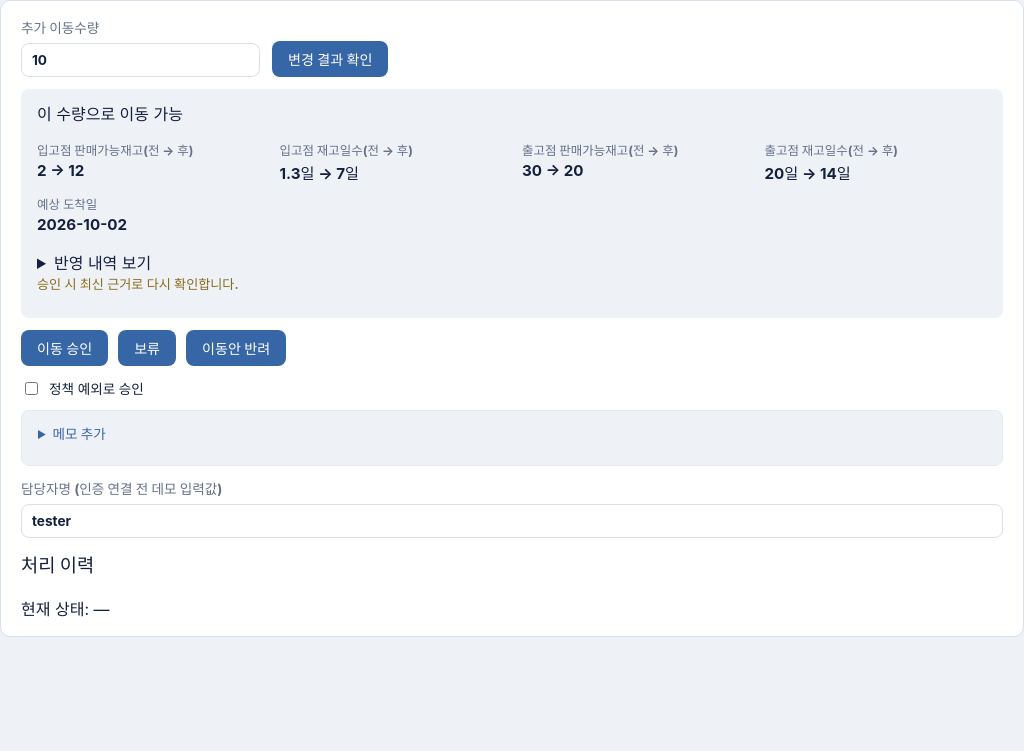
Scenario: DecisionPanel decision submission › a successful HELD response does not force the form terminal -- HELD stays actionable
Click the button "보류" at x=147, y=348, box [118,330,176,366]
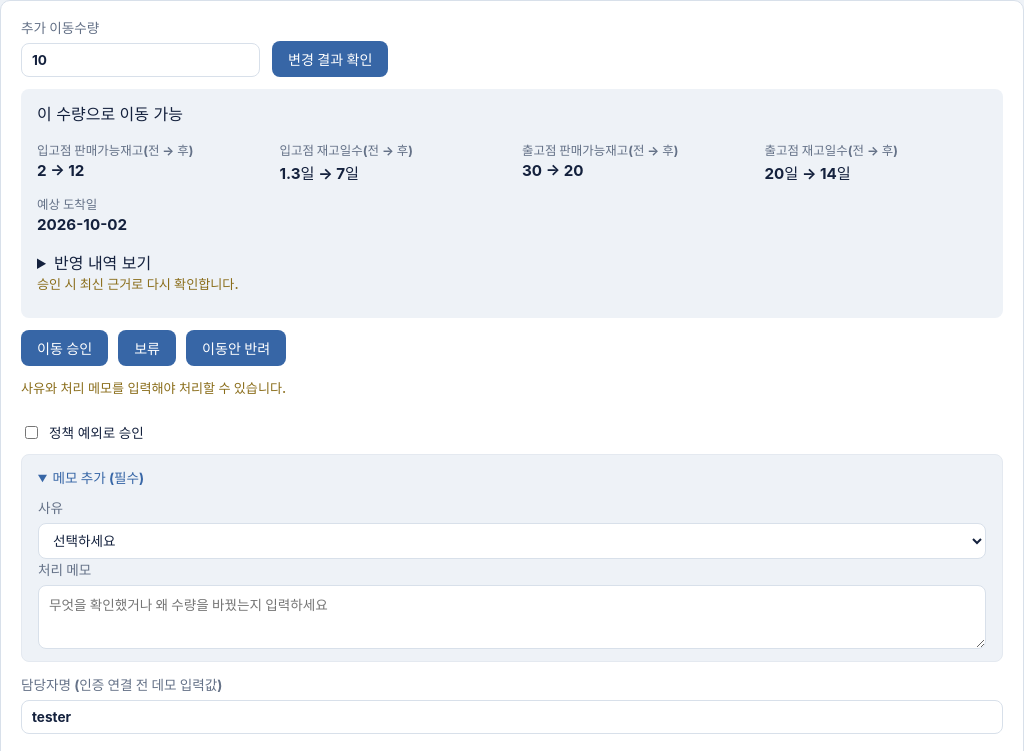
Select "관리자 검토 대기" in the dropdown labelled "사유" at x=512, y=541, box [38,523,986,559]
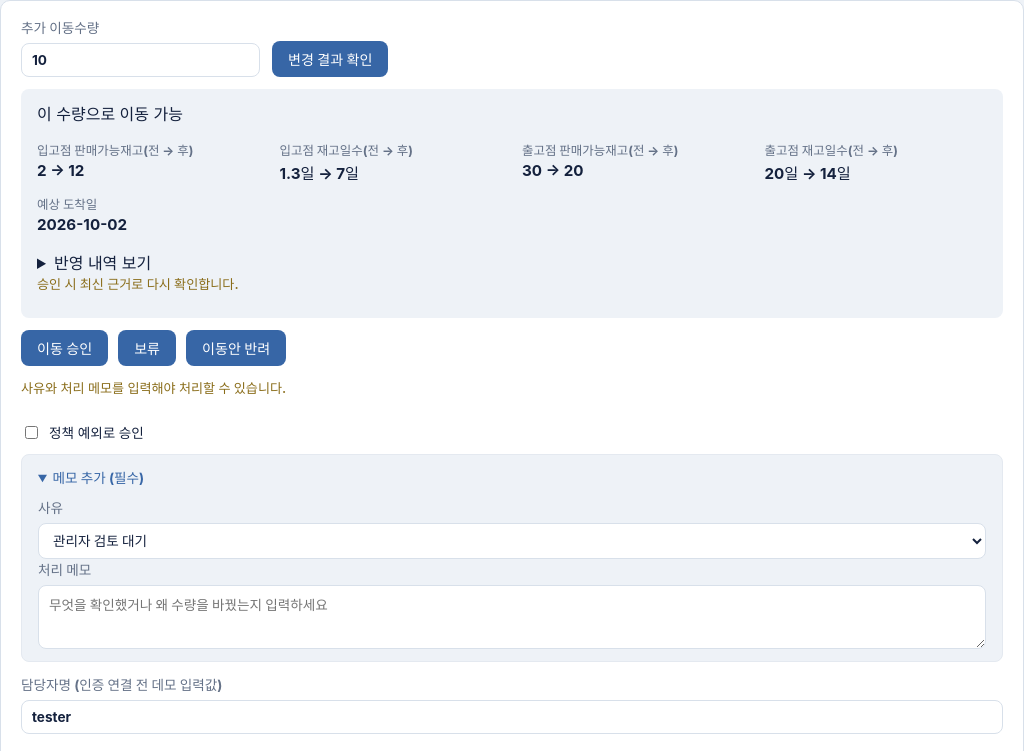
Type "추가 검토 필요" into the text box labelled "처리 메모" at x=512, y=617, box [38,585,986,649]
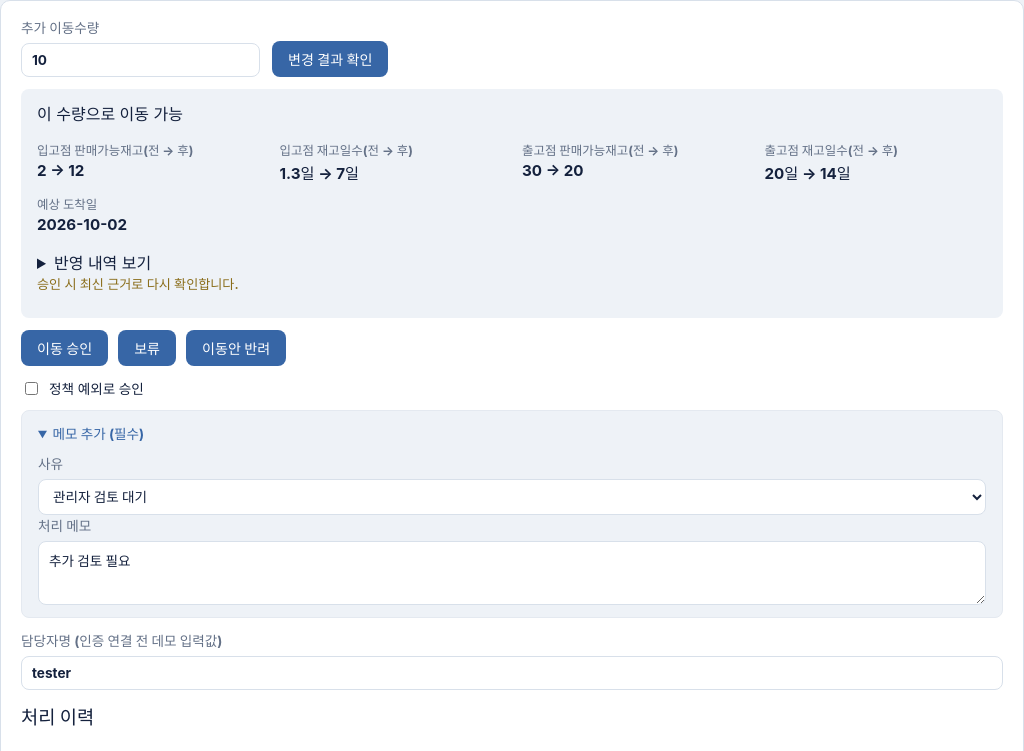
Click the button "보류" at x=147, y=348, box [118,330,176,366]
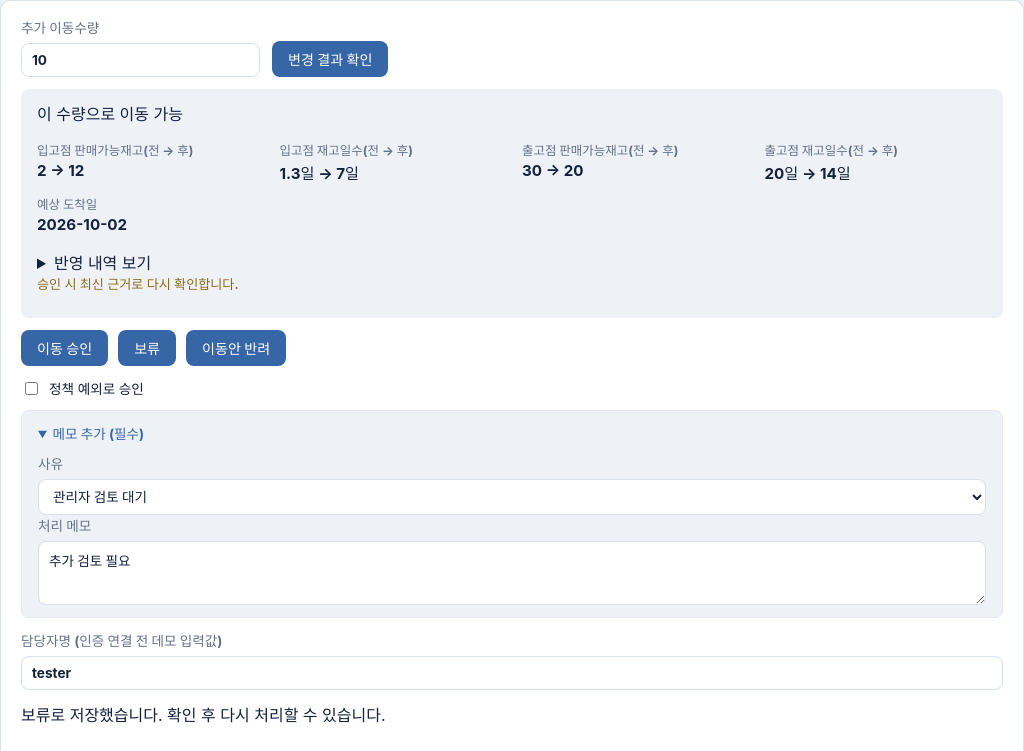
Check: the text "보류로 저장했습니다. 확인 후 다시 처리할 수 있습니다." is shown, box [21,705,386,725]
